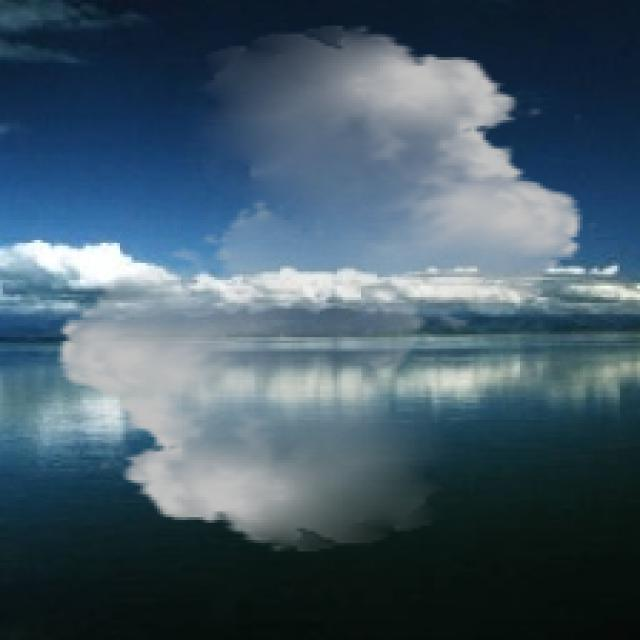smoke: (40, 26, 600, 551)
